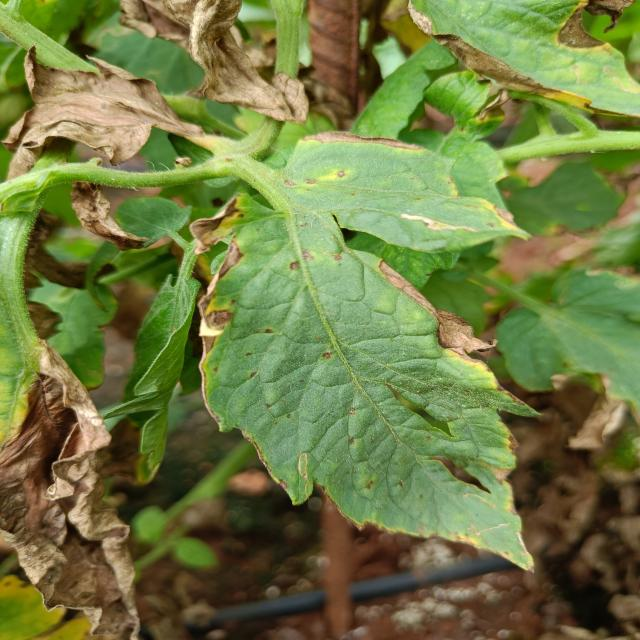Tomato mosaic virus leaf: (186, 236, 544, 574), (402, 0, 638, 124), (0, 43, 178, 175), (185, 0, 309, 127), (268, 129, 386, 218)
